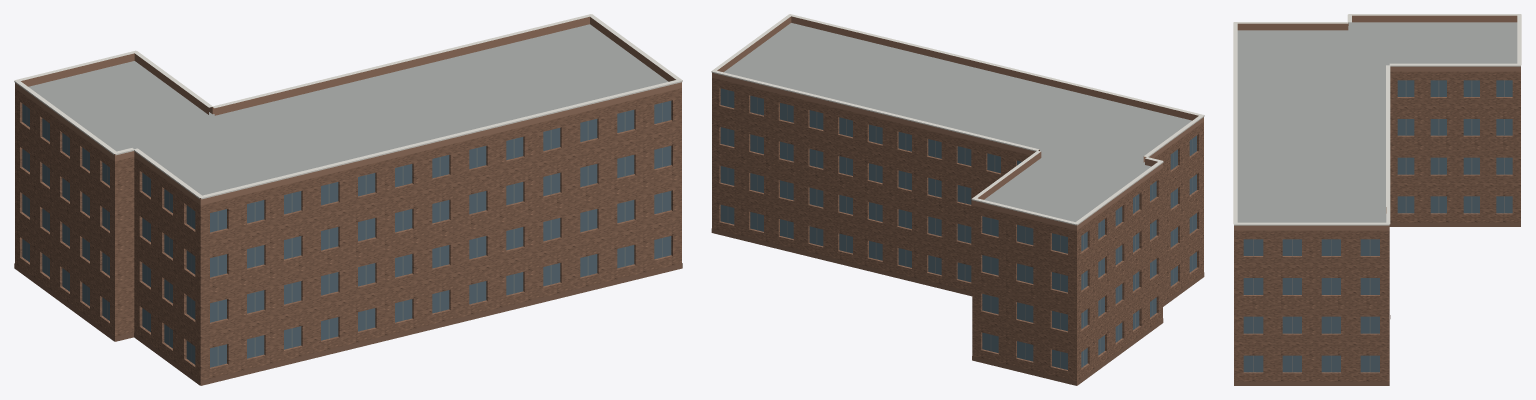
3 renders of one model, left to right at view 1: azimuth 30°, elevation 25°; view 2: azimuth 150°, elevation 25°; view 3: azimuth 270°, elevation 25°, orthographic. The views are drawn at different scales.
Parts seen in each view (by area): view 1: jesuit__wall, jesuit__roof, jesuit__glass, jesuit__parapet, jesuit__trim, jesuit__base, jesuit__frame; view 2: jesuit__wall, jesuit__roof, jesuit__glass, jesuit__parapet, jesuit__trim, jesuit__base, jesuit__frame; view 3: jesuit__wall, jesuit__roof, jesuit__glass, jesuit__parapet, jesuit__trim, jesuit__base, jesuit__frame.
Boxes of the visible parts, x1=… form: jesuit__wall: x1=15, y1=88, x2=681, y2=385; jesuit__roof: x1=28, y1=24, x2=668, y2=195; jesuit__glass: x1=22, y1=100, x2=671, y2=367; jesuit__parapet: x1=15, y1=16, x2=681, y2=205; jesuit__trim: x1=14, y1=14, x2=682, y2=199; jesuit__base: x1=14, y1=263, x2=682, y2=385; jesuit__frame: x1=26, y1=103, x2=662, y2=365; jesuit__wall: x1=712, y1=78, x2=1203, y2=385; jesuit__roof: x1=724, y1=23, x2=1191, y2=221; jesuit__glass: x1=720, y1=88, x2=1196, y2=369; jesuit__parapet: x1=712, y1=16, x2=1203, y2=230; jesuit__trim: x1=711, y1=14, x2=1204, y2=225; jesuit__base: x1=711, y1=228, x2=1204, y2=385; jesuit__frame: x1=727, y1=90, x2=1192, y2=368; jesuit__wall: x1=1234, y1=71, x2=1520, y2=381; jesuit__roof: x1=1237, y1=22, x2=1517, y2=222; jesuit__glass: x1=1243, y1=80, x2=1512, y2=372; jesuit__parapet: x1=1234, y1=15, x2=1520, y2=230; jesuit__trim: x1=1233, y1=14, x2=1521, y2=225; jesuit__base: x1=1234, y1=222, x2=1520, y2=385; jesuit__frame: x1=1253, y1=80, x2=1504, y2=372.
Size of the model in its own units: 41.95 by 15 by 24.28.
7 materials, 1 textured.
